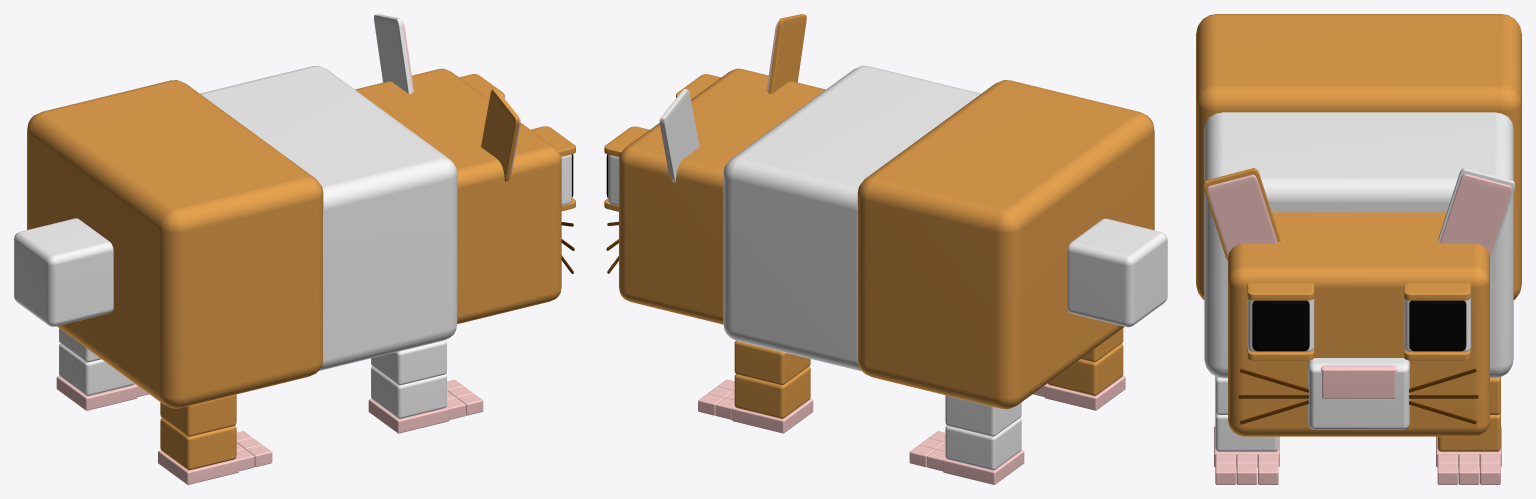
Rendered from Hamster.fbx.
3 renders of one model, left to right at view 1: azimuth 30°, elevation 25°; view 2: azimuth 150°, elevation 25°; view 3: azimuth 270°, elevation 25°, orthographic. The views are drawn at different scales.
Visible parts, largest first — view 1: Hamster; view 2: Hamster; view 3: Hamster.
Part boxes in pixels (x1,y1,x2,y2): Hamster: (14, 14, 575, 484); Hamster: (604, 14, 1167, 484); Hamster: (1196, 14, 1521, 484).
Bounding box in the file's own units: 28.52 × 16.66 × 14.8.
